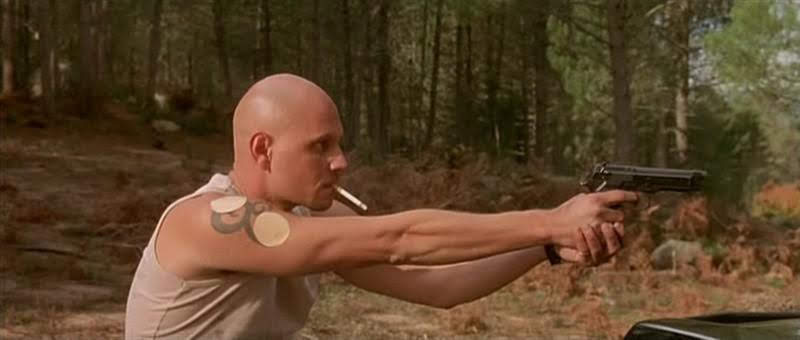gun: (540, 135, 711, 268)
